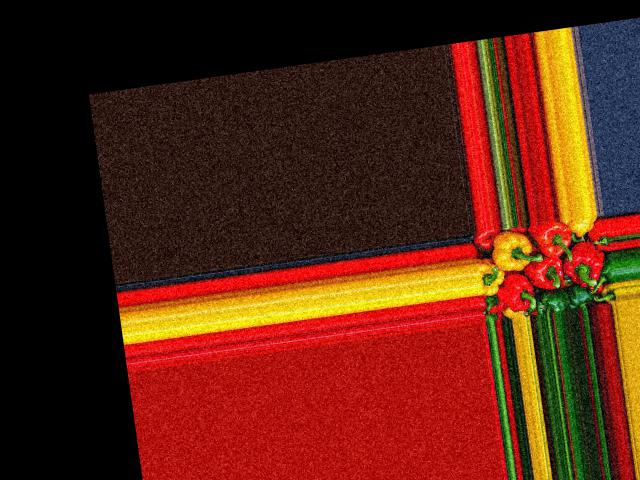bell_pepper: (568, 215, 594, 236)
